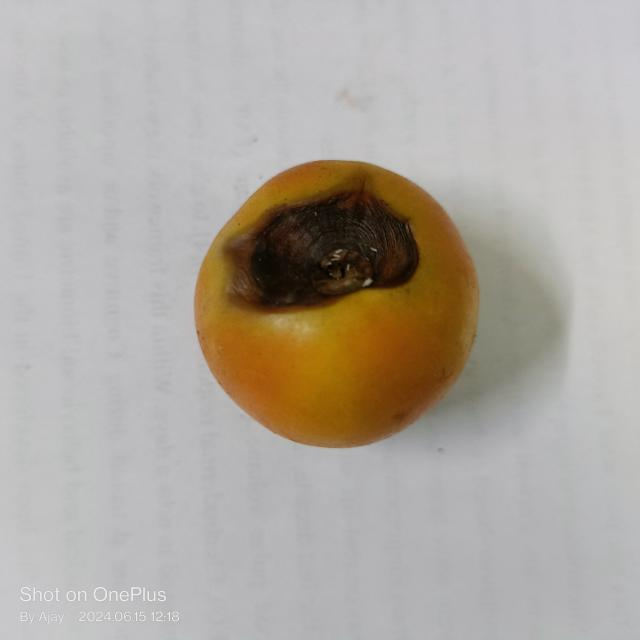Anthrocnose: (218, 192, 422, 312)
